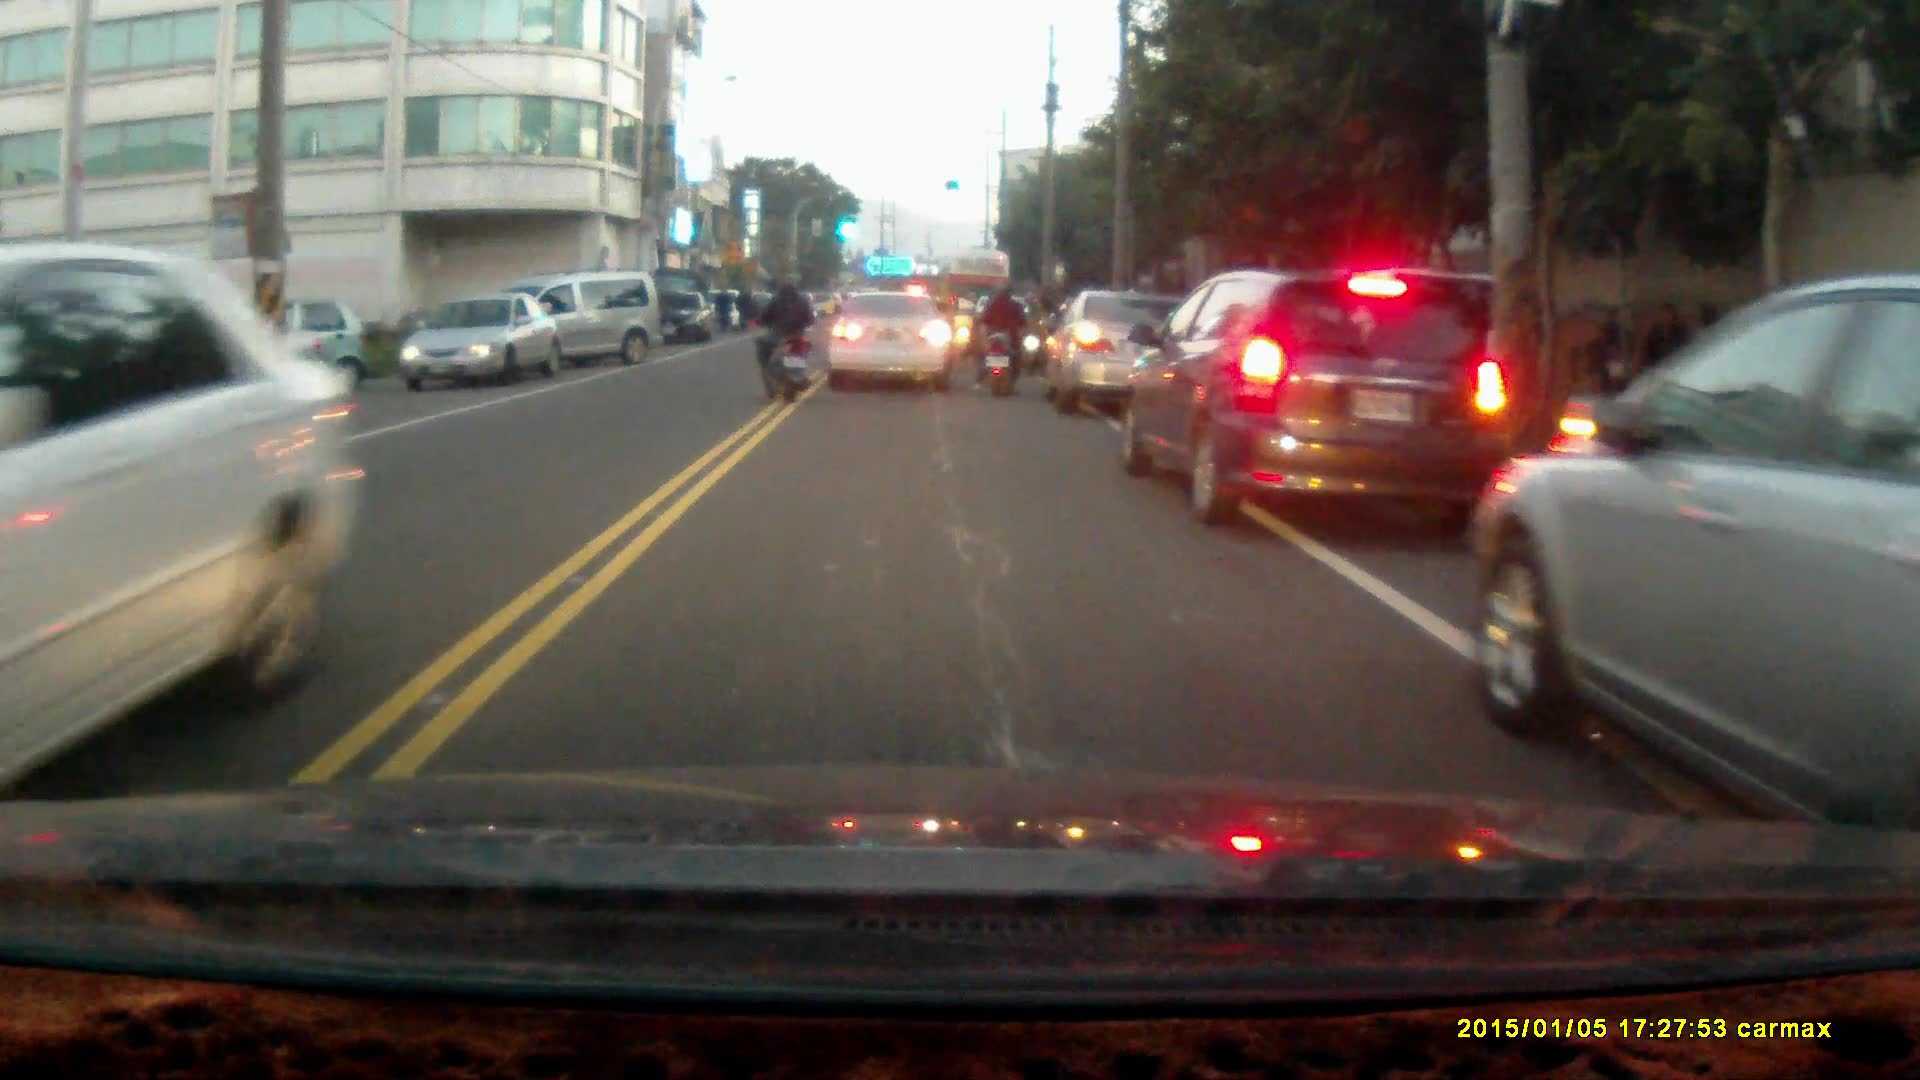pedestrian: (1643, 301, 1697, 438), (1589, 304, 1635, 443)
rider: (754, 277, 815, 402), (970, 273, 1029, 400)
vehicle: (1467, 269, 1920, 854), (1, 249, 337, 813), (1112, 265, 1510, 529), (1046, 291, 1188, 415), (397, 289, 562, 390), (503, 270, 664, 372), (829, 289, 952, 398), (656, 291, 712, 345)
